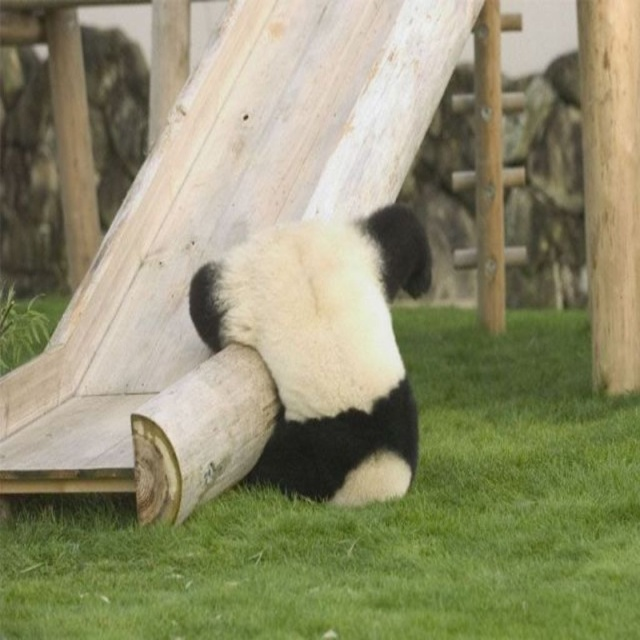Panda: (188, 204, 434, 505)
